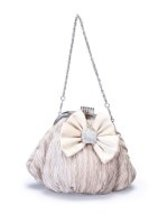bag: (27, 12, 139, 199)
